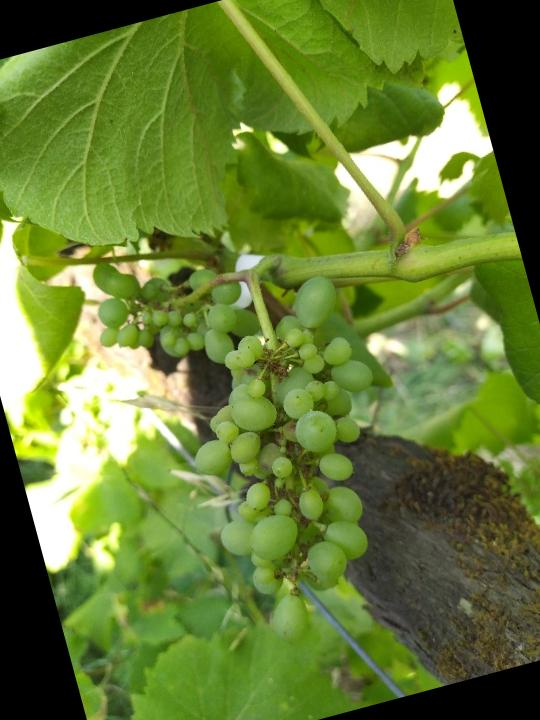grape: (77, 196, 444, 677)
